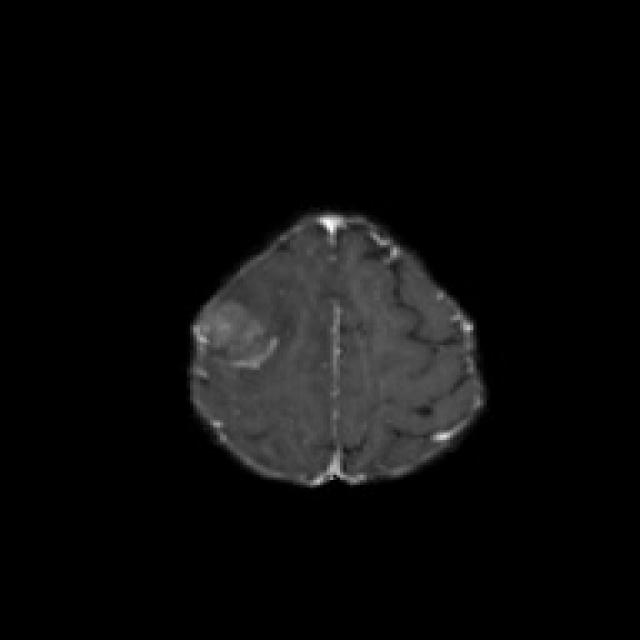positive: (208, 304, 282, 371)
